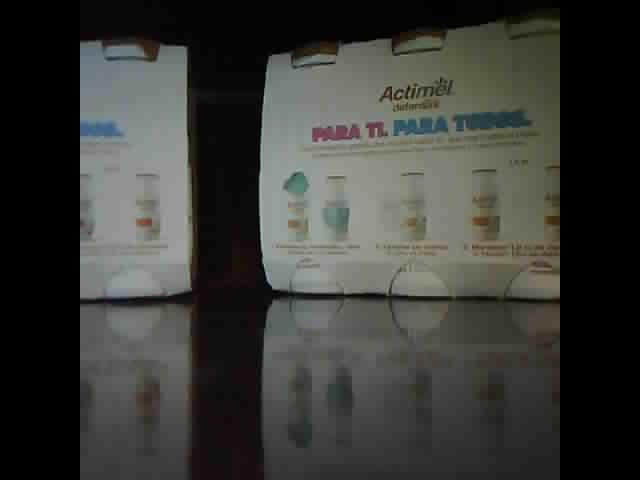actimel: (260, 18, 560, 306), (79, 36, 195, 303)
